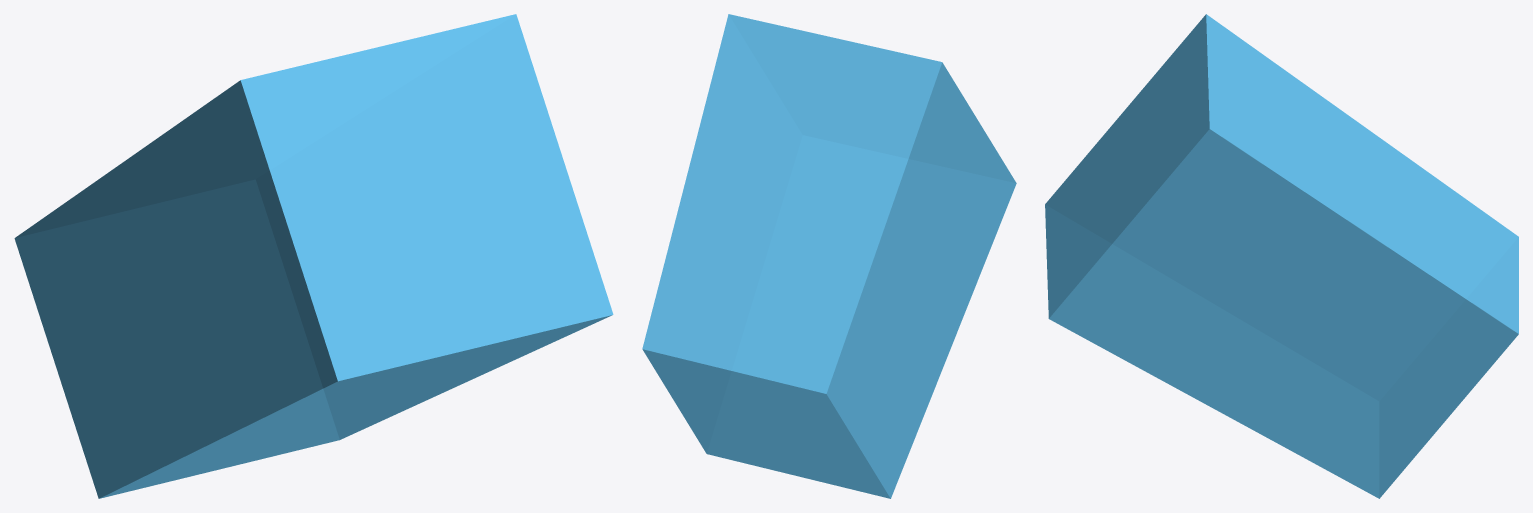
Rendered from Event_421115418_HBrechit_23.fbx.
3 renders of one model, left to right at view 1: azimuth 30°, elevation 25°; view 2: azimuth 150°, elevation 25°; view 3: azimuth 270°, elevation 25°, orthographic. The views are drawn at different scales.
Visible parts, largest first — view 1: Model; view 2: Model; view 3: Model.
Boxes of the visible parts, <box> form: Model: <box>14,14,613,498</box>; Model: <box>642,14,1016,498</box>; Model: <box>1045,14,1518,498</box>.
Bounding box in the file's own units: 0.5279 × 0.7787 × 0.8307.
